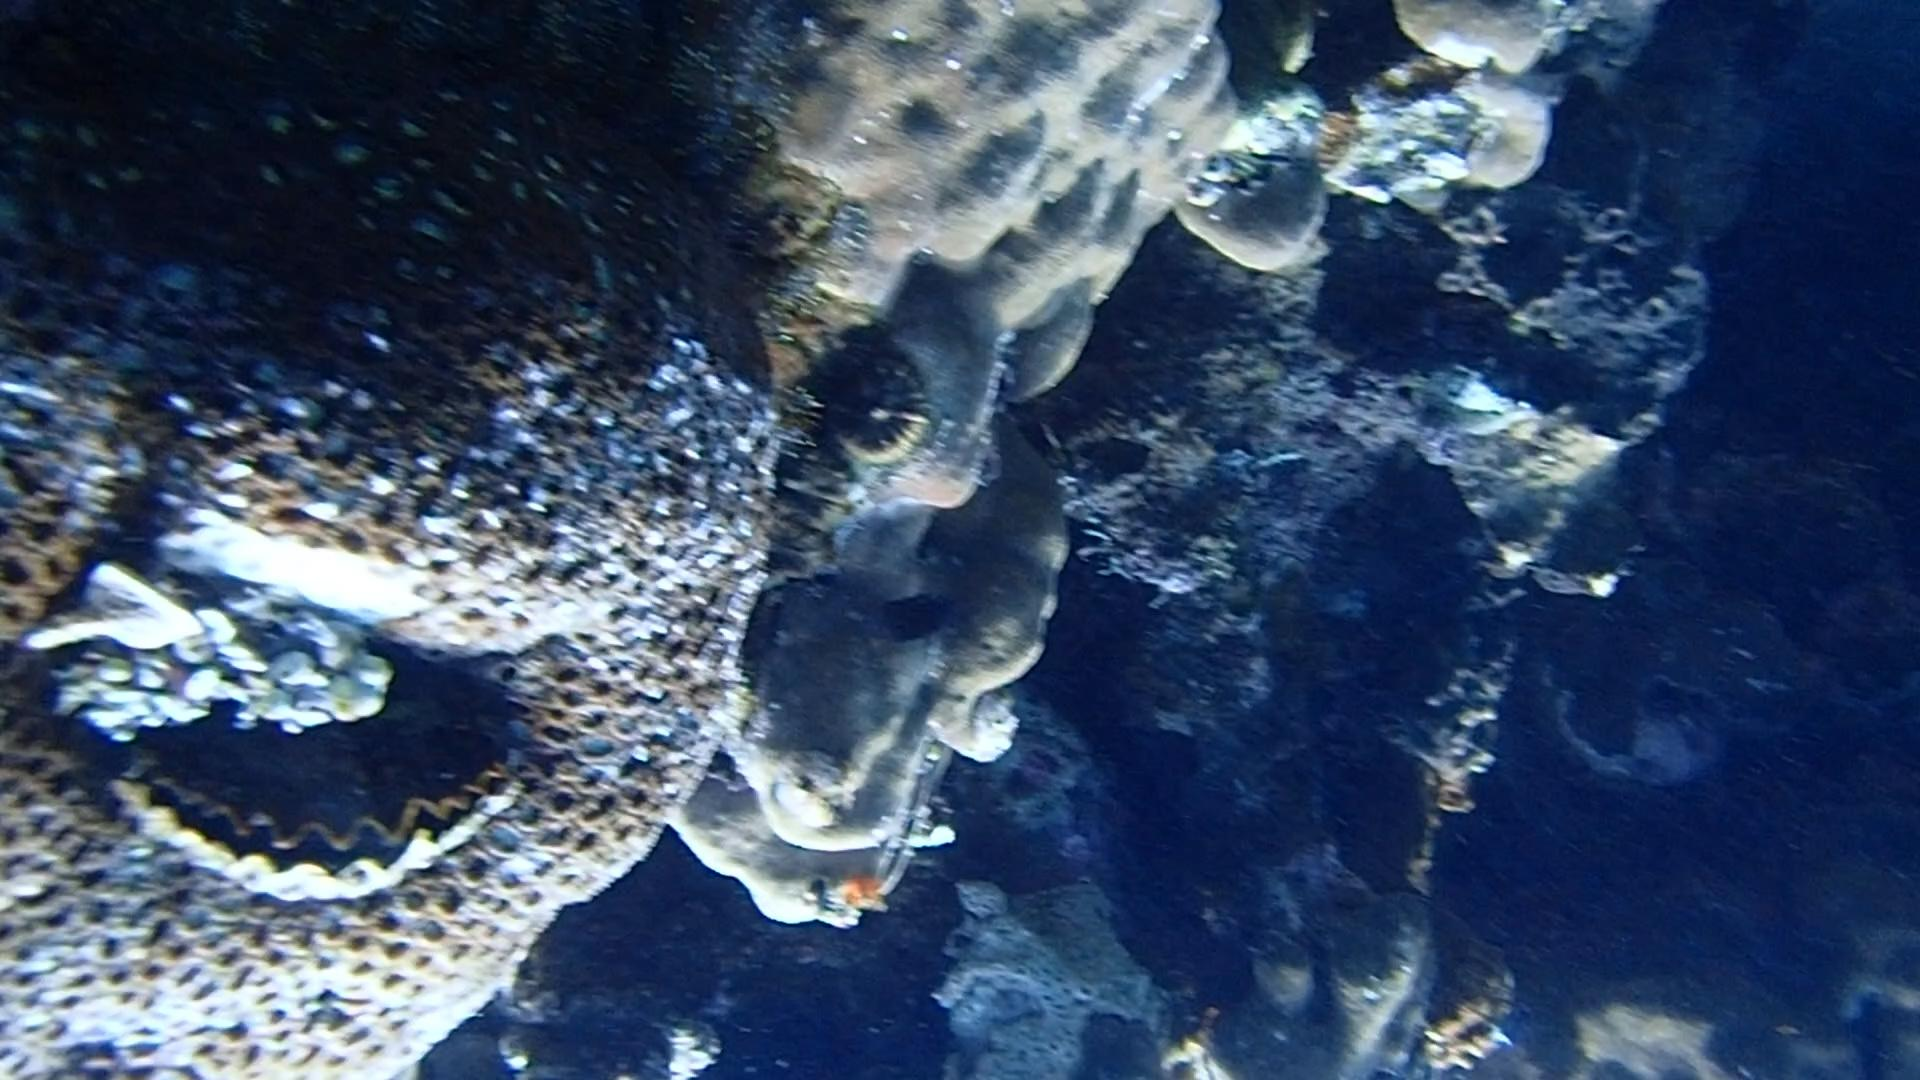Dark Fish: (1060, 422, 1171, 502), (861, 582, 956, 659)
